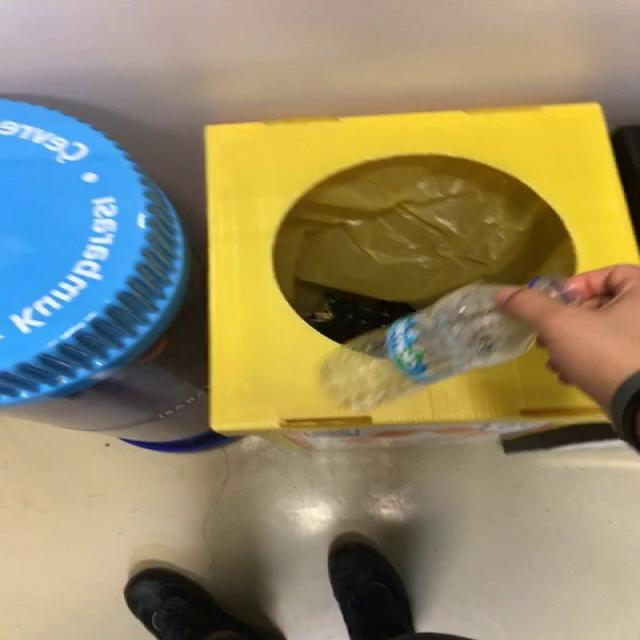plastic: (321, 284, 536, 412)
